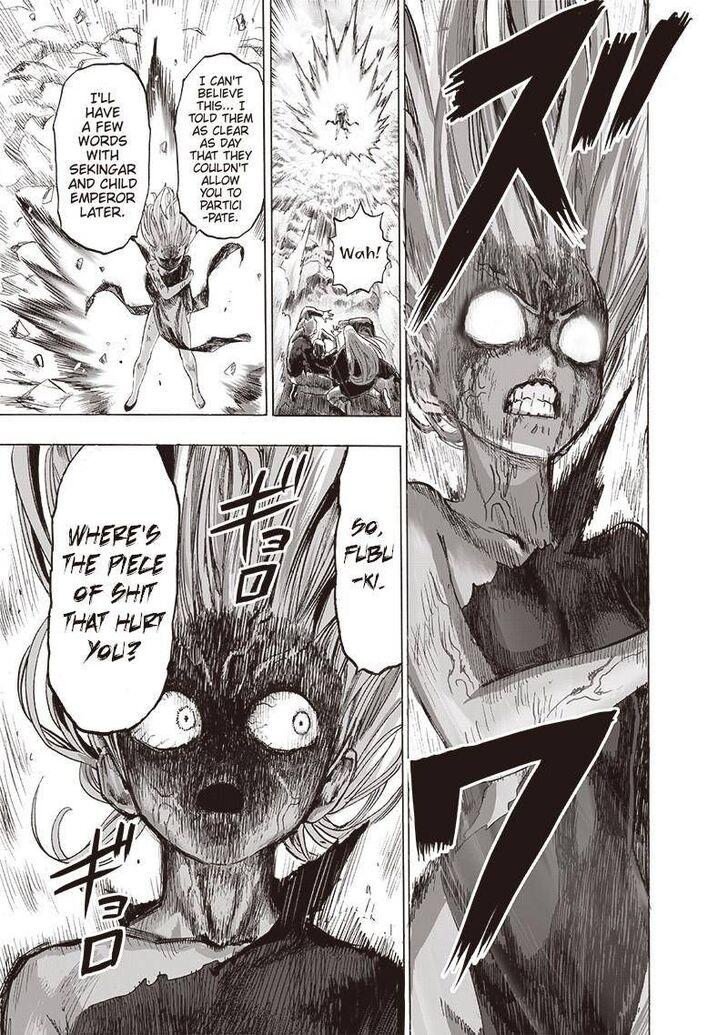Bubble: (45, 442, 182, 735), (52, 60, 153, 255), (172, 50, 269, 240), (333, 443, 406, 677), (325, 197, 392, 299)
